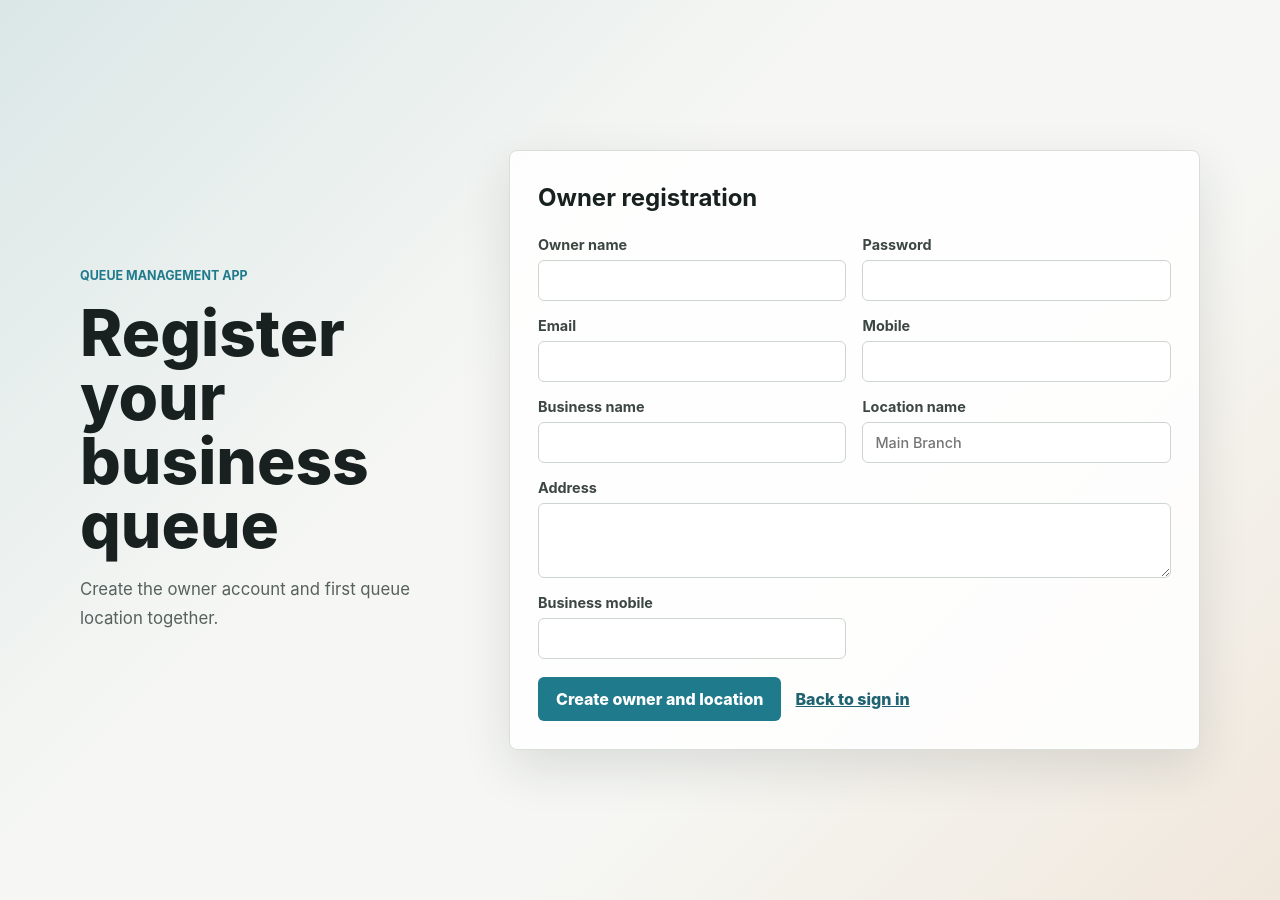
Test: OwnerRegistrationComponent › should require either owner email or mobile before submitting registration
Type "Priya Sharma" into the field labelled "Owner name" at [692, 280], box [538,260,846,301]
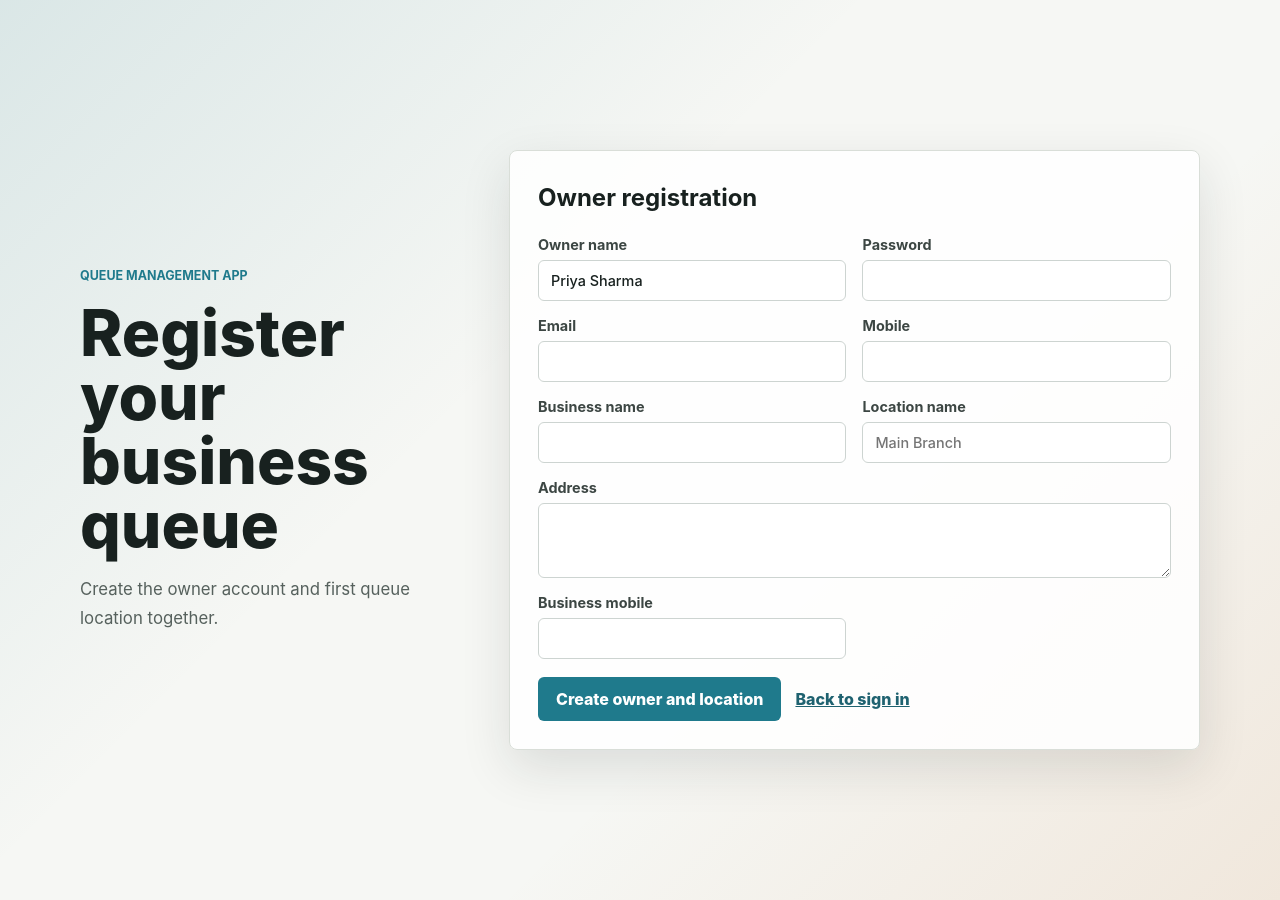
Type "StrongPass123" into the password field labelled "Password" at [1017, 280], box [862,260,1171,301]
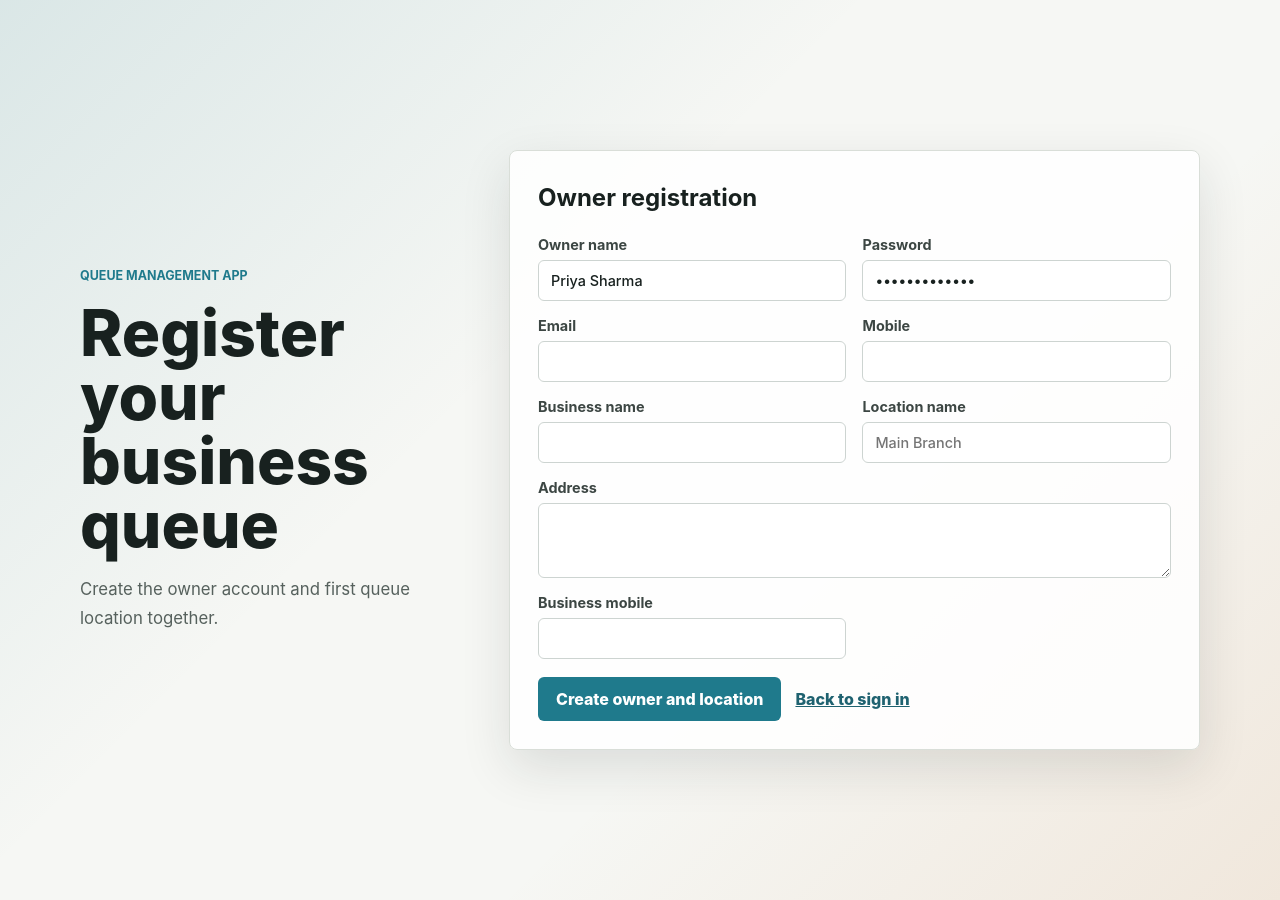
Type "Priya Dental Clinic" into the field labelled "Business name" at [692, 442], box [538,422,846,463]
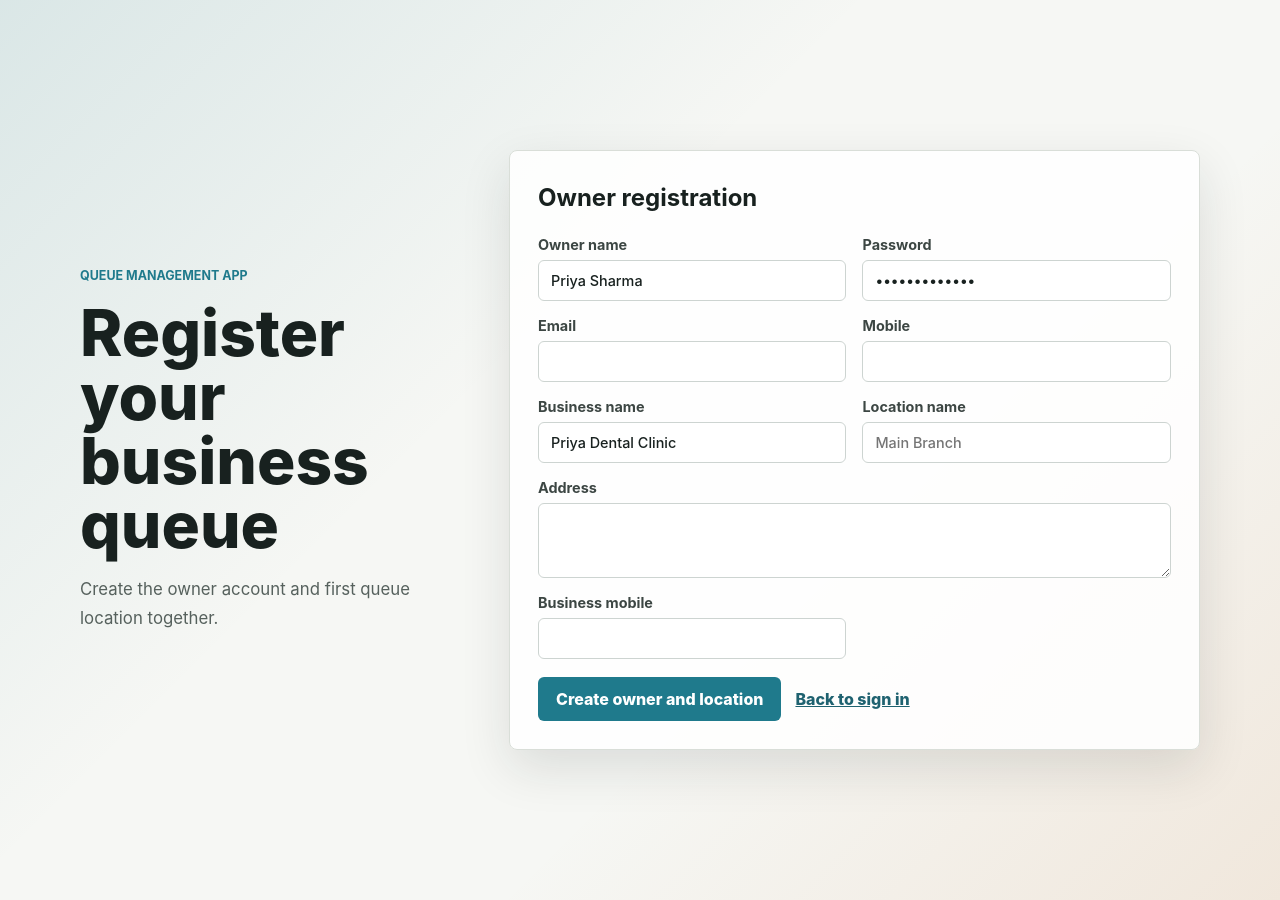
Type "12 MG Road, Bengaluru" into the text box labelled "Address" at [854, 540], box [538,503,1171,578]
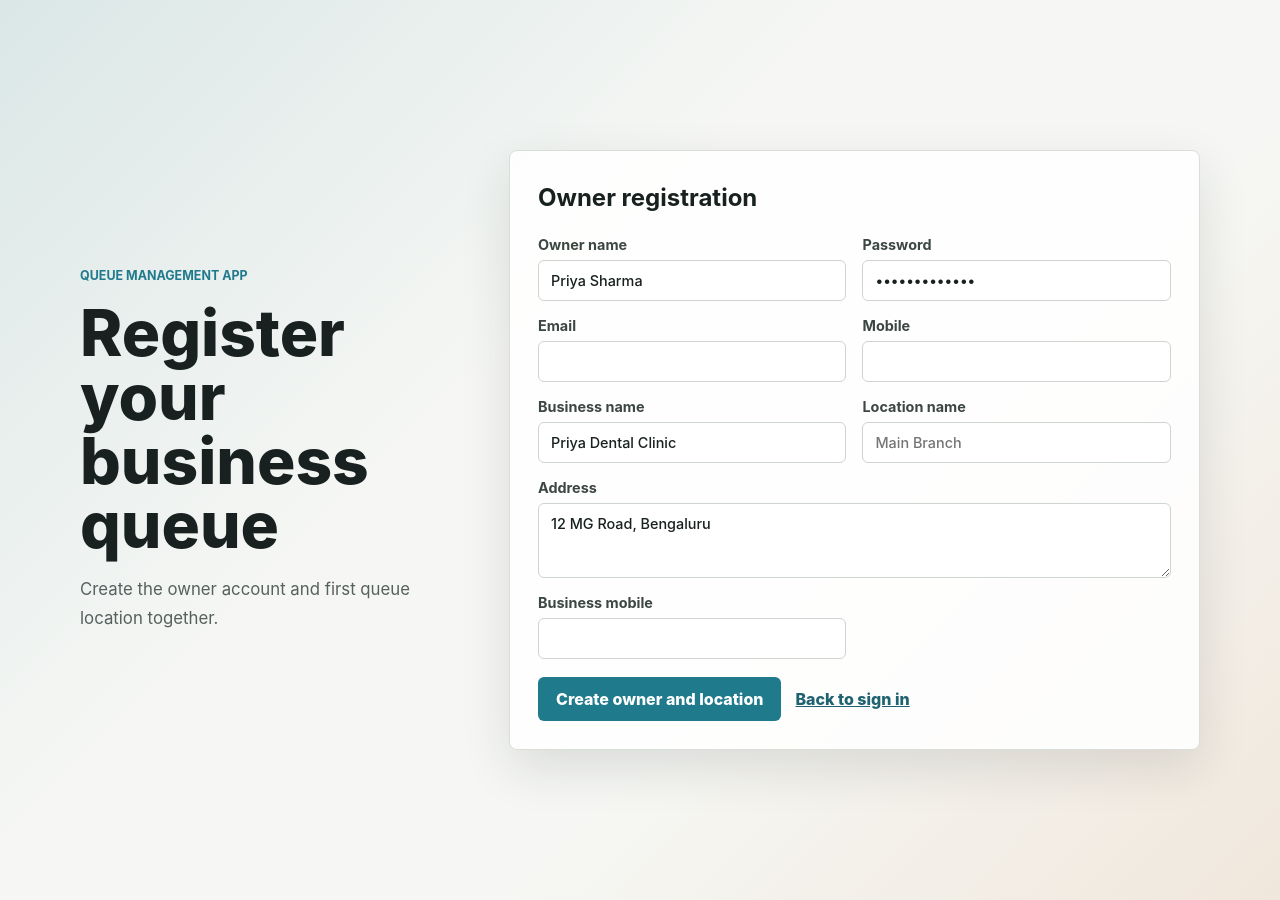
Type "9876500000" into the field labelled "Business mobile" at [692, 638], box [538,618,846,659]
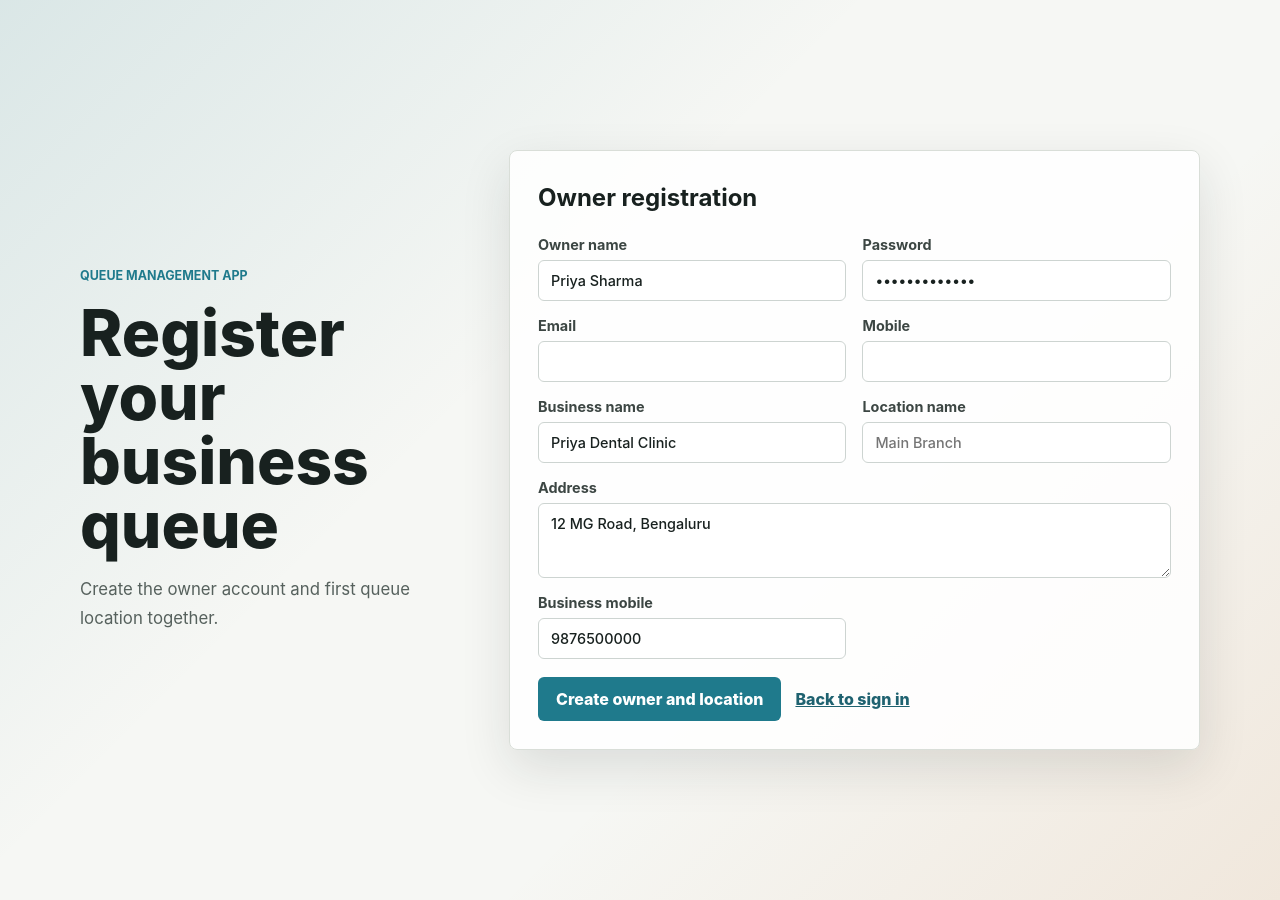
Submit the form with class "registration-form", box [538,236,1171,721]
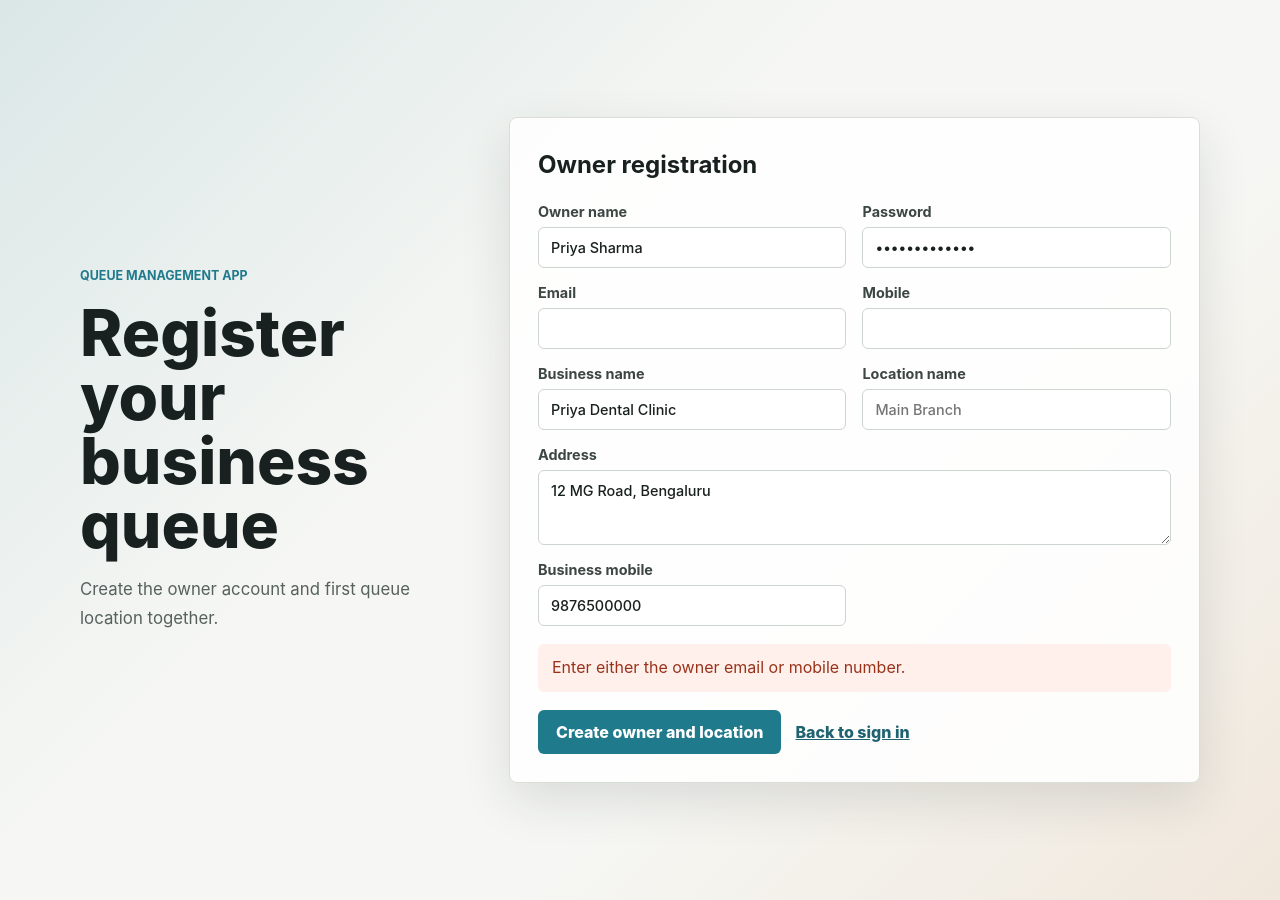
Now the message "Enter either the owner email or mobile number." is shown, box [538,644,1171,692]
